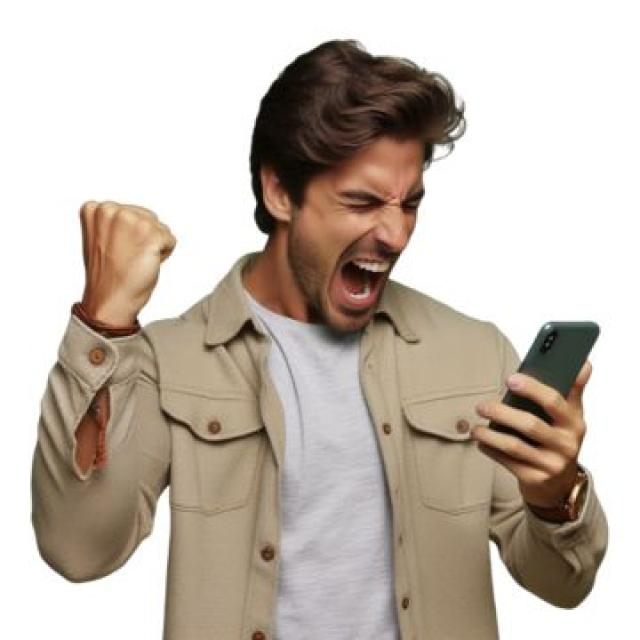mobile: (474, 293, 628, 480)
person: (31, 37, 487, 614)
